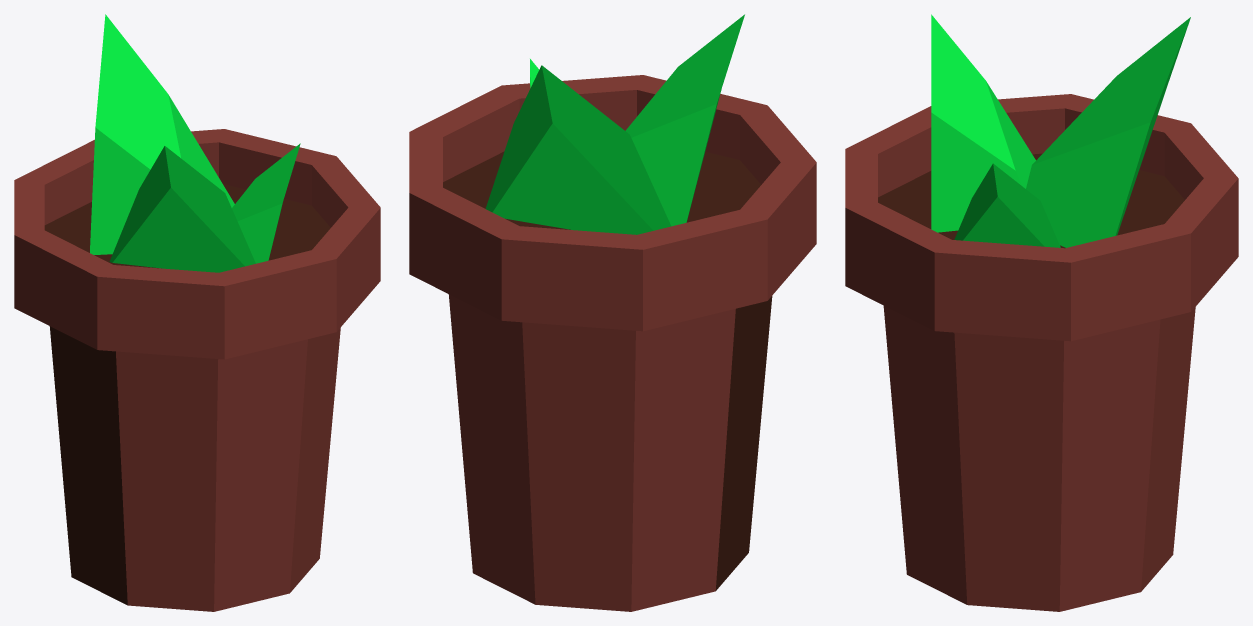
The model's file is PotPlant.fbx.
3 renders of one model, left to right at view 1: azimuth 30°, elevation 25°; view 2: azimuth 150°, elevation 25°; view 3: azimuth 270°, elevation 25°, orthographic. The views are drawn at different scales.
Parts seen in each view (by area): view 1: Pot, Leaf.001, Leaf, Leaf.002; view 2: Pot, Leaf.001, Leaf; view 3: Pot, Leaf.001, Leaf, Leaf.002.
Boxes of the visible parts, x1=… form: Pot: x1=14, y1=129, x2=380, y2=611; Leaf.001: x1=90, y1=14, x2=234, y2=254; Leaf: x1=109, y1=146, x2=255, y2=272; Leaf.002: x1=232, y1=143, x2=300, y2=263; Pot: x1=409, y1=75, x2=816, y2=611; Leaf.001: x1=485, y1=65, x2=671, y2=234; Leaf: x1=625, y1=14, x2=744, y2=226; Pot: x1=845, y1=94, x2=1238, y2=611; Leaf.001: x1=1026, y1=17, x2=1190, y2=247; Leaf: x1=931, y1=14, x2=1035, y2=232; Leaf.002: x1=954, y1=163, x2=1060, y2=247.
Size of the model in its own units: 125 by 183 by 123.
